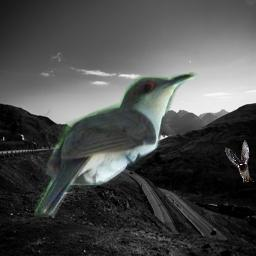Cuckoo: (34, 72, 198, 218)
Swallow: (225, 140, 254, 183)
